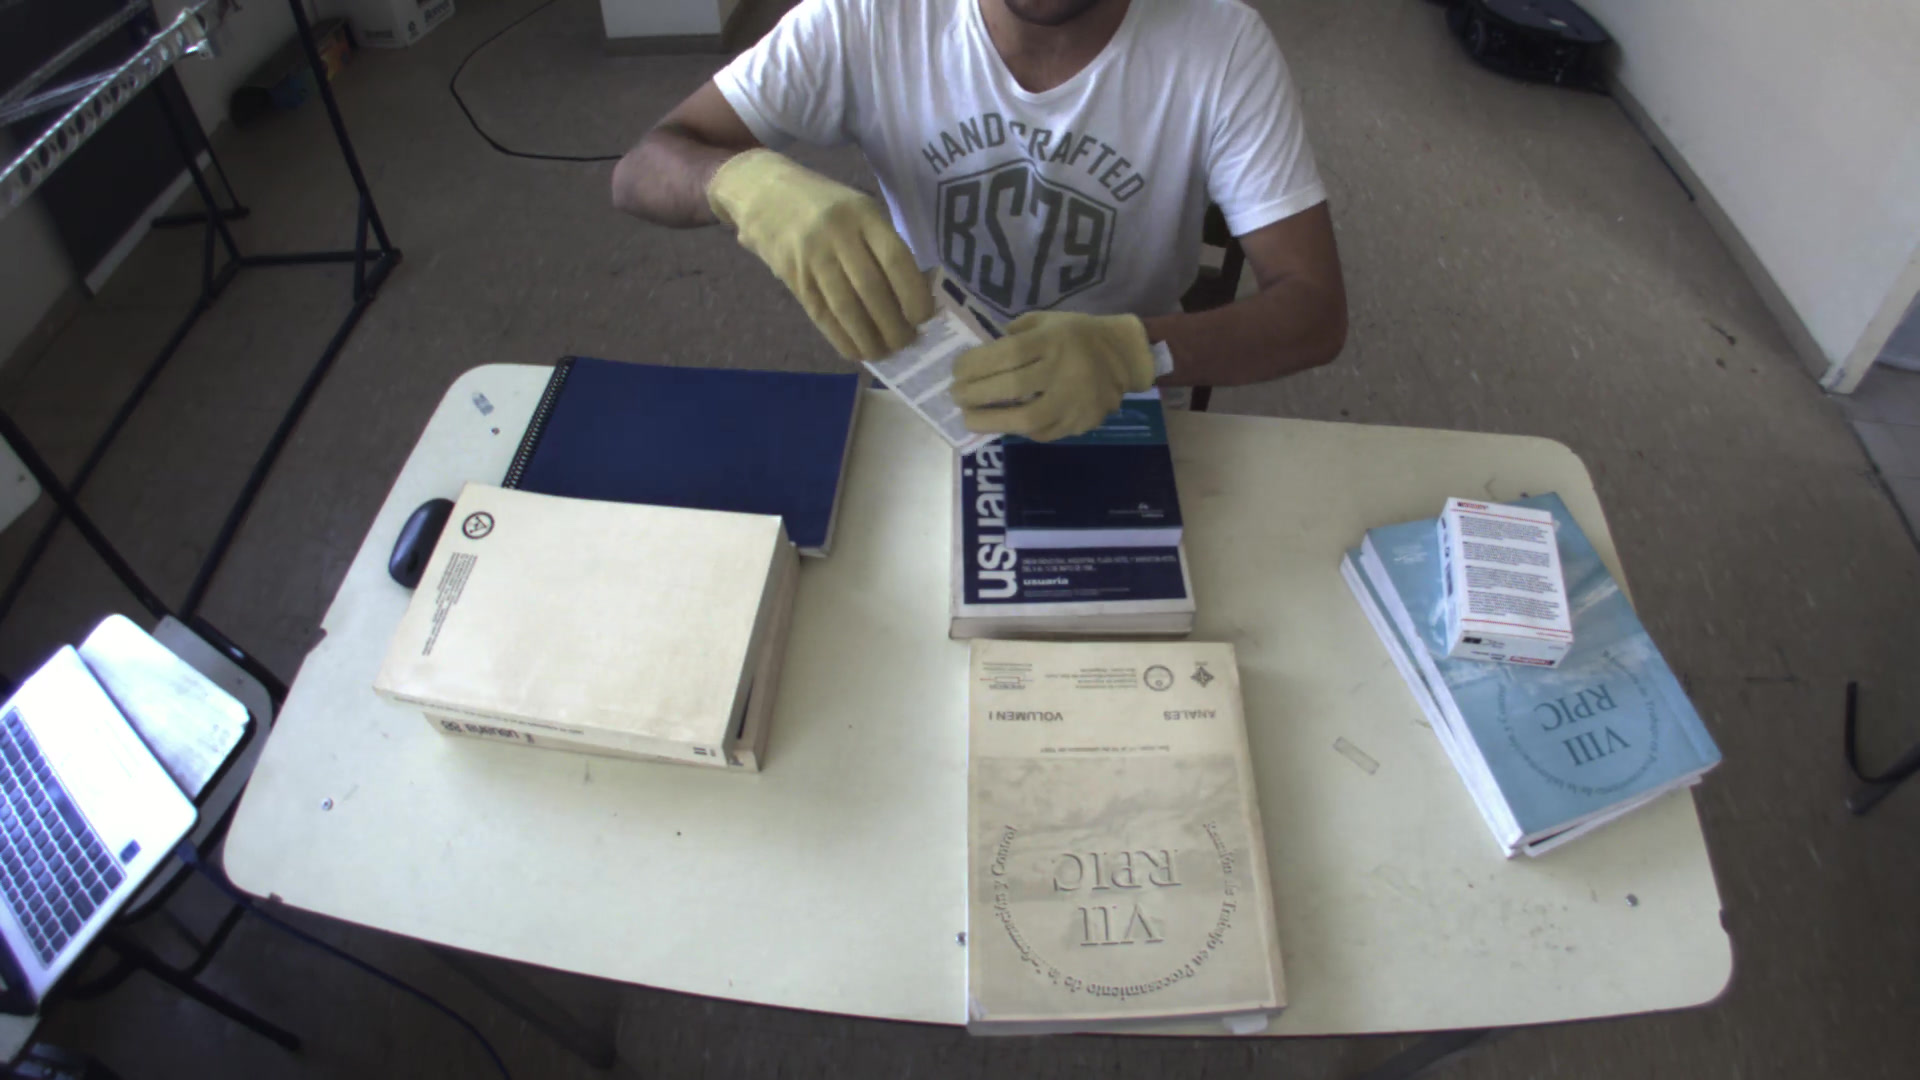hand: (702, 136, 938, 367), (945, 284, 1170, 454)
